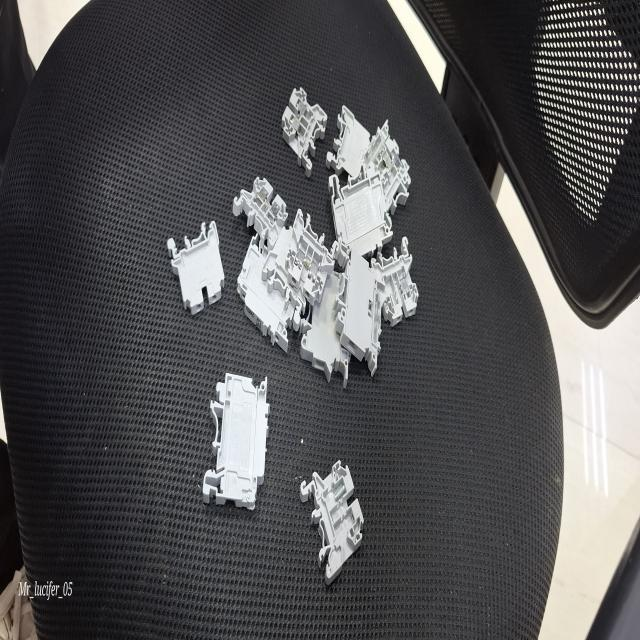Inverted: (163, 214, 230, 321)
Pass: (276, 70, 330, 179), (285, 206, 340, 309), (230, 158, 286, 249)
Reject: (297, 450, 375, 585), (370, 228, 420, 324)
